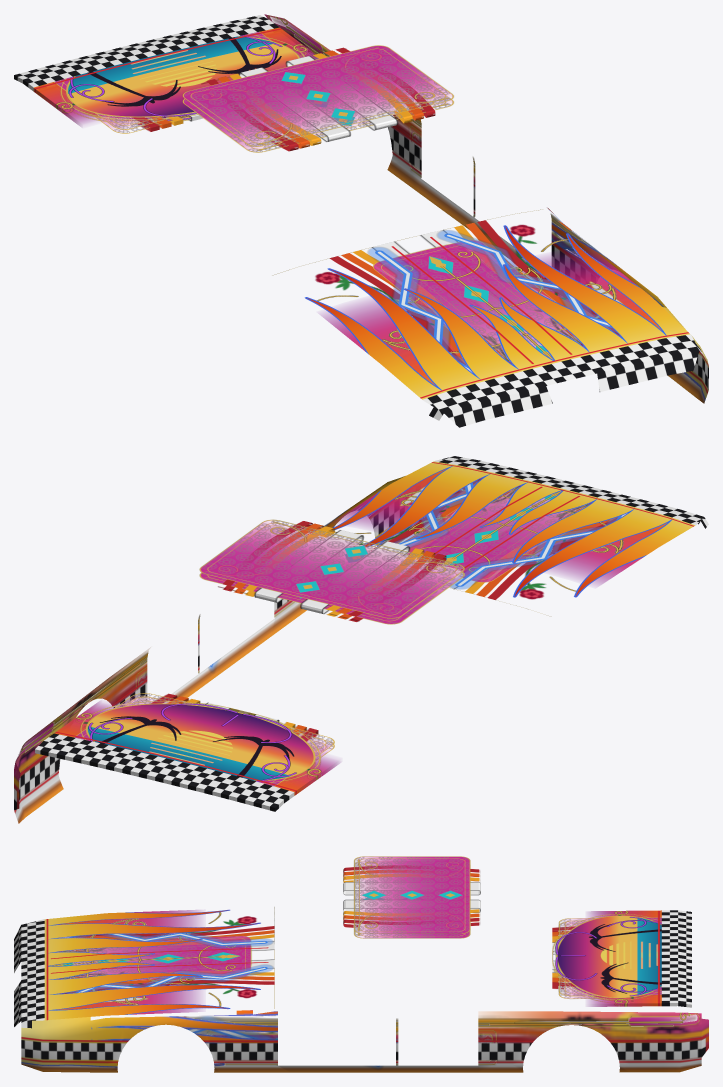
Rendered from VantorStradaVinyls.glb.
The picture shows the model from 3 angles, top to bottom: view 1: azimuth 30°, elevation 25°; view 2: azimuth 150°, elevation 25°; view 3: azimuth 270°, elevation 25°; orthographic projection. The views are drawn at different scales.
Visible parts, largest first — view 1: VantorStradaLivery_flames_hood, VantorStradaLivery_patterns_roof, VantorStradaLivery_purple_lace_roof, VantorStradaLivery_checker_hood, VantorStradaLivery_mural_trunk, VantorStradaLivery_patterns_hood, VantorStradaLivery_checker_trunk, VantorStradaLivery_lightning_hood, VantorStradaLivery_purple_lace_hood, VantorStradaLivery_sunset_fade_hood, VantorStradaLivery_retro_waves_hood, VantorStradaLivery_retro_waves_roof (+14 smaller); view 2: VantorStradaLivery_patterns_roof, VantorStradaLivery_flames_hood, VantorStradaLivery_mural_trunk, VantorStradaLivery_purple_lace_roof, VantorStradaLivery_checker_trunk, VantorStradaLivery_patterns_hood, VantorStradaLivery_checker_hood, VantorStradaLivery_retro_waves_roof, VantorStradaLivery_purple_lace_hood, VantorStradaLivery_sunset_fade_hood, VantorStradaLivery_lightning_hood, VantorStradaLivery_sunset_fade_side (+15 smaller); view 3: VantorStradaLivery_flames_hood, VantorStradaLivery_patterns_roof, VantorStradaLivery_mural_trunk, VantorStradaLivery_checker_side, VantorStradaLivery_purple_lace_roof, VantorStradaLivery_flames_side, VantorStradaLivery_patterns_hood, VantorStradaLivery_checker_hood, VantorStradaLivery_sunset_fade_side, VantorStradaLivery_tropical_side, VantorStradaLivery_checker_trunk, VantorStradaLivery_stripes_side (+23 smaller).
Part boxes in pixels (x1=…): VantorStradaLivery_flames_hood: x1=305, y1=225, x2=689, y2=399; VantorStradaLivery_patterns_roof: x1=183, y1=45, x2=453, y2=152; VantorStradaLivery_purple_lace_roof: x1=186, y1=49, x2=449, y2=151; VantorStradaLivery_checker_hood: x1=391, y1=237, x2=703, y2=427; VantorStradaLivery_mural_trunk: x1=56, y1=34, x2=306, y2=123; VantorStradaLivery_patterns_hood: x1=373, y1=240, x2=580, y2=362; VantorStradaLivery_checker_trunk: x1=14, y1=15, x2=281, y2=92; VantorStradaLivery_lightning_hood: x1=368, y1=230, x2=616, y2=372; VantorStradaLivery_purple_lace_hood: x1=416, y1=252, x2=578, y2=360; VantorStradaLivery_sunset_fade_hood: x1=324, y1=251, x2=661, y2=385; VantorStradaLivery_retro_waves_hood: x1=330, y1=220, x2=620, y2=365; VantorStradaLivery_retro_waves_roof: x1=201, y1=47, x2=435, y2=151; VantorStradaLivery_patterns_roof: x1=200, y1=520, x2=464, y2=624; VantorStradaLivery_flames_hood: x1=331, y1=461, x2=695, y2=597; VantorStradaLivery_mural_trunk: x1=76, y1=701, x2=320, y2=783; VantorStradaLivery_purple_lace_roof: x1=207, y1=520, x2=463, y2=620; VantorStradaLivery_checker_trunk: x1=35, y1=732, x2=296, y2=811; VantorStradaLivery_patterns_hood: x1=406, y1=487, x2=588, y2=582; VantorStradaLivery_checker_hood: x1=432, y1=456, x2=708, y2=570; VantorStradaLivery_retro_waves_roof: x1=218, y1=521, x2=446, y2=621; VantorStradaLivery_purple_lace_hood: x1=423, y1=488, x2=586, y2=566; VantorStradaLivery_sunset_fade_hood: x1=338, y1=469, x2=667, y2=583; VantorStradaLivery_lightning_hood: x1=393, y1=480, x2=627, y2=589; VantorStradaLivery_sunset_fade_side: x1=14, y1=524, x2=414, y2=823; VantorStradaLivery_flames_hood: x1=44, y1=909, x2=260, y2=1020; VantorStradaLivery_patterns_roof: x1=354, y1=856, x2=470, y2=938; VantorStradaLivery_mural_trunk: x1=552, y1=910, x2=661, y2=1006; VantorStradaLivery_checker_side: x1=21, y1=1035, x2=706, y2=1063; VantorStradaLivery_purple_lace_roof: x1=354, y1=856, x2=460, y2=937; VantorStradaLivery_flames_side: x1=21, y1=1010, x2=682, y2=1067; VantorStradaLivery_patterns_hood: x1=55, y1=935, x2=251, y2=981; VantorStradaLivery_checker_hood: x1=14, y1=919, x2=268, y2=1028; VantorStradaLivery_sunset_fade_side: x1=21, y1=1019, x2=708, y2=1072; VantorStradaLivery_tropical_side: x1=479, y1=1011, x2=708, y2=1043; VantorStradaLivery_checker_trunk: x1=658, y1=910, x2=691, y2=1007; VantorStradaLivery_stripes_side: x1=21, y1=1057, x2=701, y2=1069.
Bounding box in the file's own units: 6.95 × 3.79 × 19.2.
Materials: 50 (50 with a texture image).
